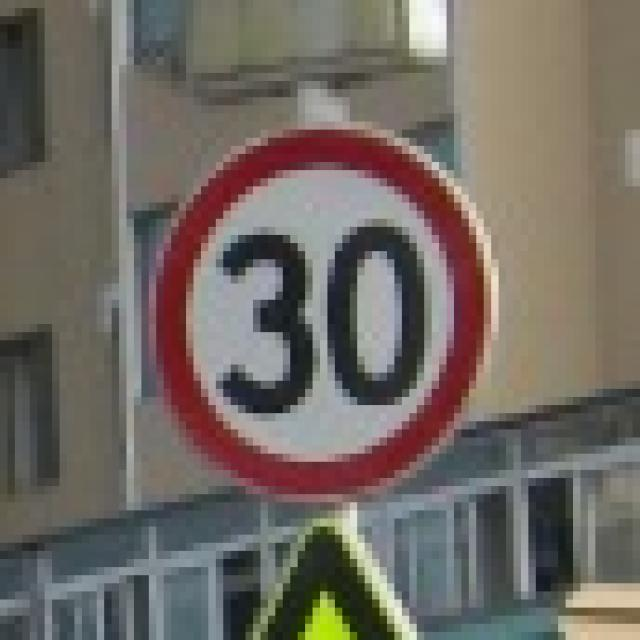Speed Limit -30-: (212, 218, 431, 418)
